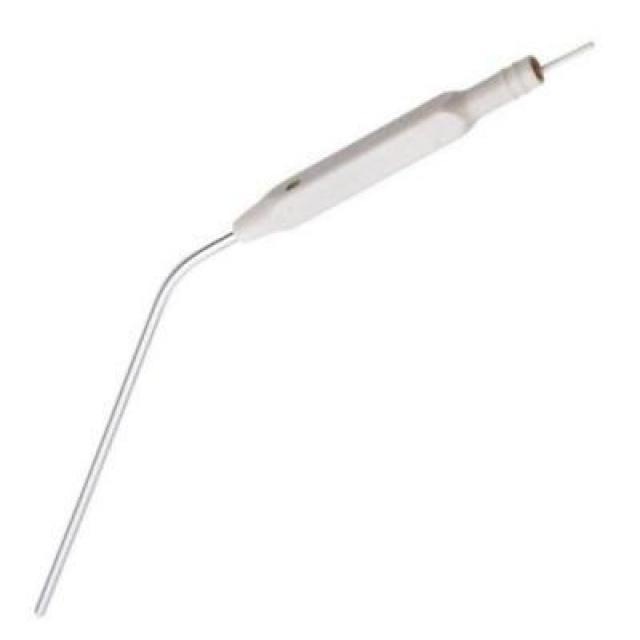Frazier: (29, 51, 552, 620)
